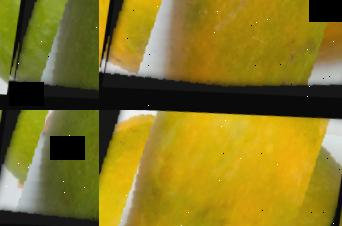PartiallyRipe: (99, 110, 342, 226), (100, 0, 342, 110)
Unripe: (0, 110, 99, 226), (10, 0, 99, 110)
